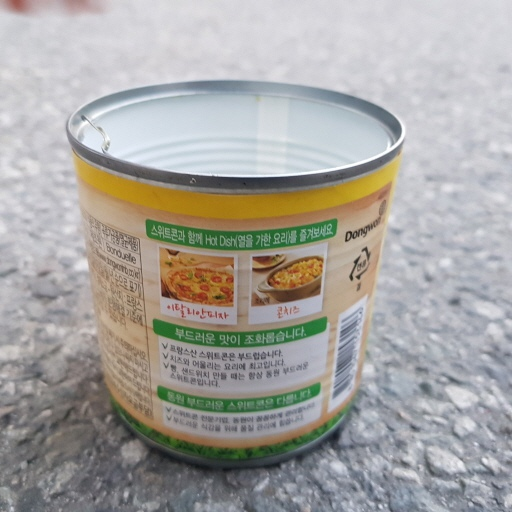Metal_1: (64, 76, 405, 465)
